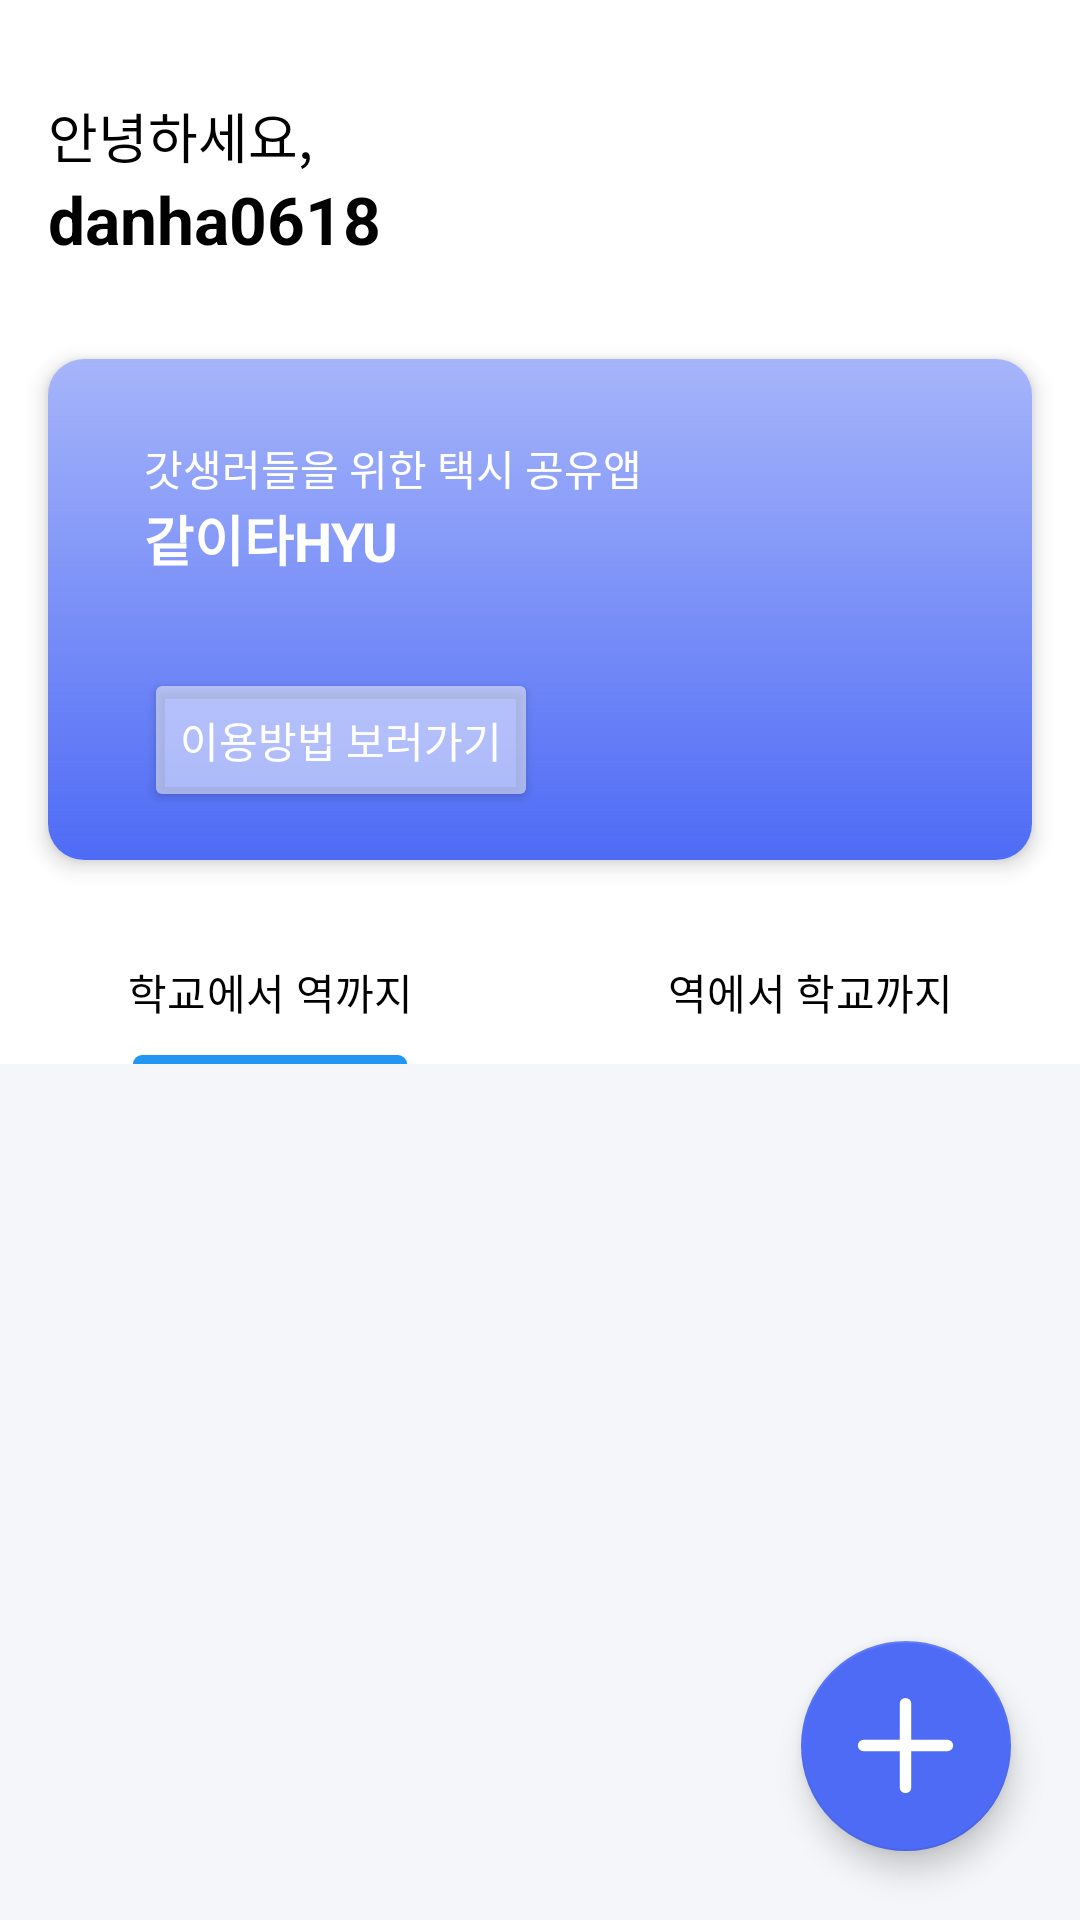

Icon click points for this 1080 × 1920 phone screenshot, format (x=x, y=y):
플러스 버튼: (x=906, y=1746)
